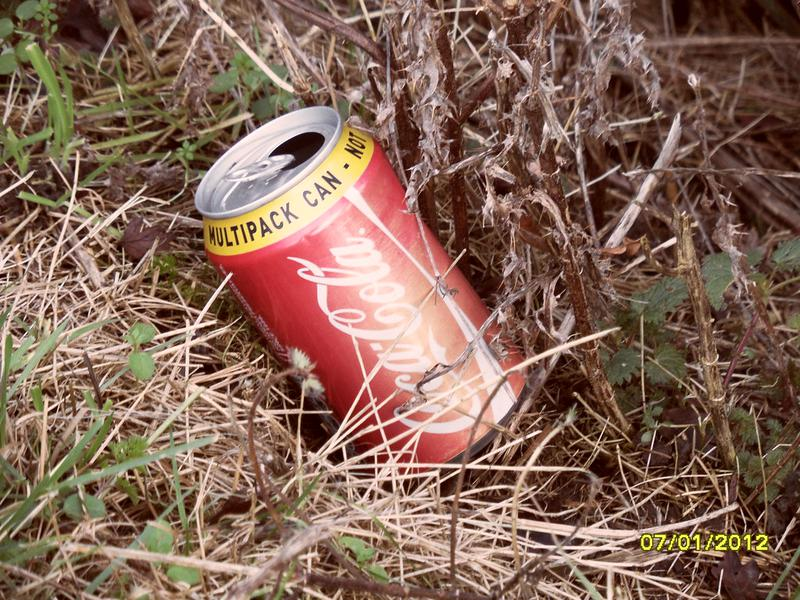can: (176, 103, 542, 502)
